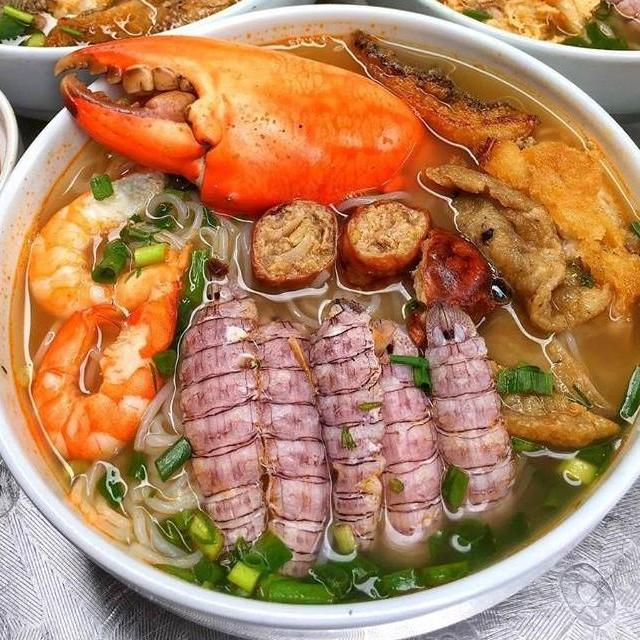bun: (54, 373, 220, 576), (126, 184, 258, 308)
bun hai san: (0, 30, 640, 635)
ca: (336, 20, 544, 159)
tom: (22, 160, 200, 321), (18, 298, 170, 467)
tom tit: (168, 254, 290, 568), (238, 304, 340, 584), (418, 296, 520, 542), (304, 288, 394, 559), (358, 317, 451, 574)
